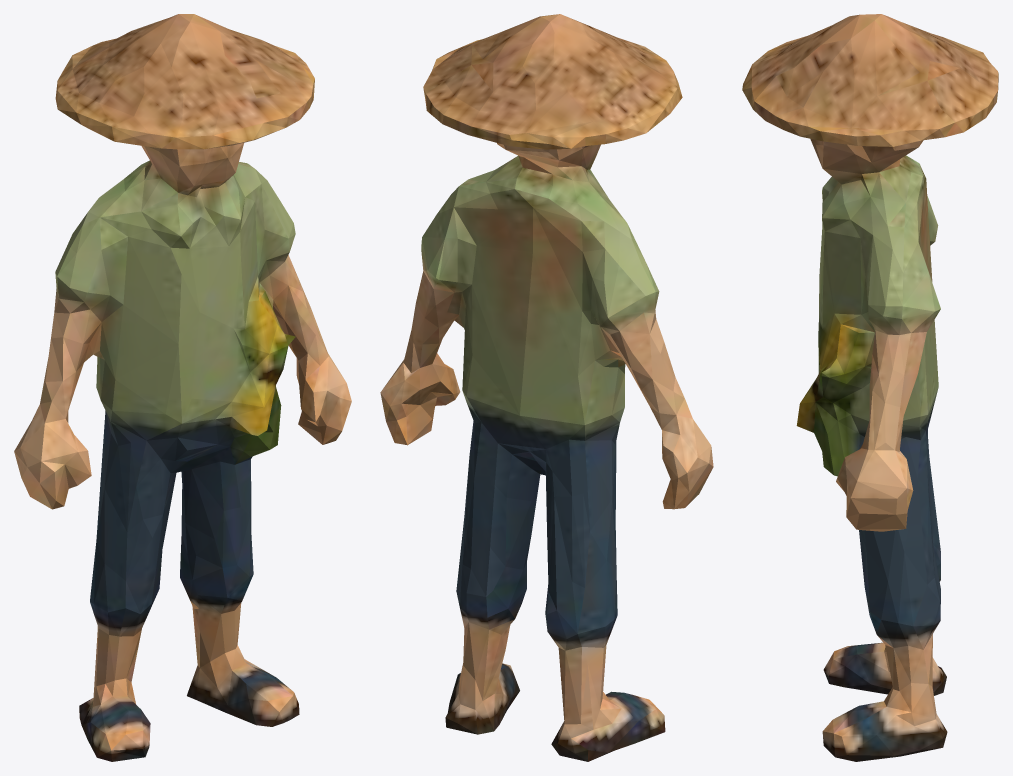
File: habitant-loin.glb
The picture shows the model from 3 angles, left to right: view 1: azimuth 30°, elevation 25°; view 2: azimuth 150°, elevation 25°; view 3: azimuth 270°, elevation 25°; orthographic projection.
Visible parts, largest first — view 1: habitant; view 2: habitant; view 3: habitant.
Boxes of the visible parts, x1,y1,x2,y2 form: habitant: (14, 14, 351, 761); habitant: (380, 14, 713, 761); habitant: (742, 14, 998, 761).
Bounding box in the file's own units: 0.469 × 1.01 × 0.3338.
1 material, 1 textured.
